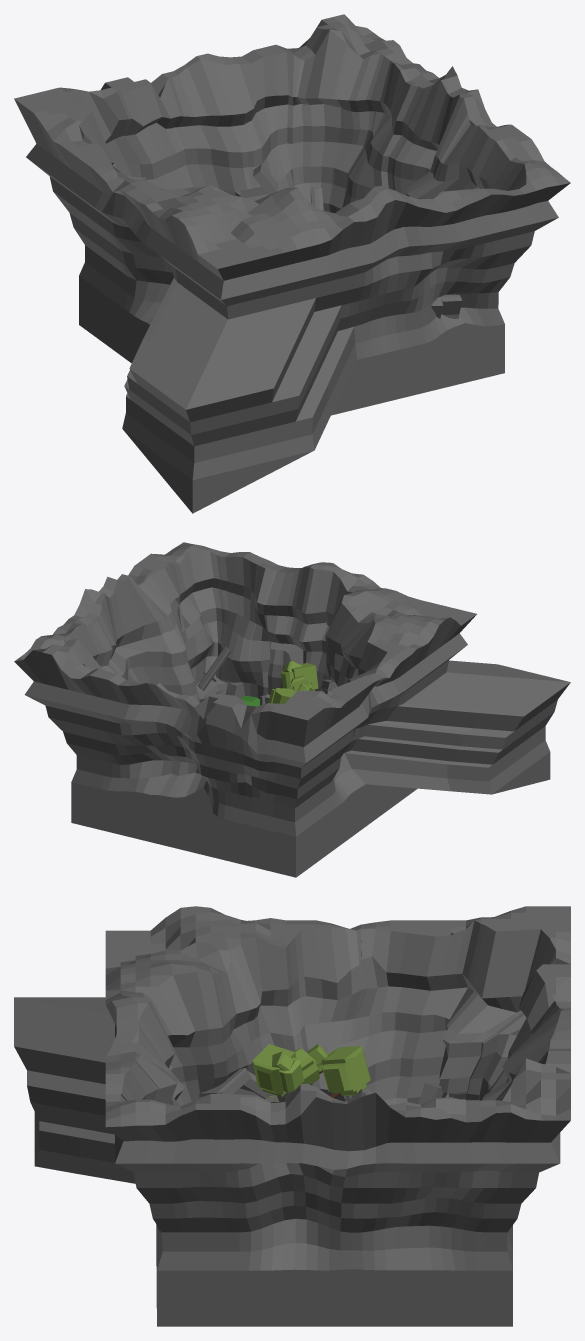
The model's file is O_CaveEntrance.fbx.
The picture shows the model from 3 angles, top to bottom: view 1: azimuth 30°, elevation 25°; view 2: azimuth 150°, elevation 25°; view 3: azimuth 270°, elevation 25°; orthographic projection. The views are drawn at different scales.
Parts seen in each view (by area): view 1: Cube.001; view 2: Cube.001; view 3: Cube.001.
Part boxes in pixels (left/top/right/bottom): Cube.001: left=14, top=14, right=570, bottom=513; Cube.001: left=14, top=542, right=570, bottom=877; Cube.001: left=14, top=906, right=570, bottom=1326.
Bounding box in the file's own units: 43611 × 23580 × 43340.
